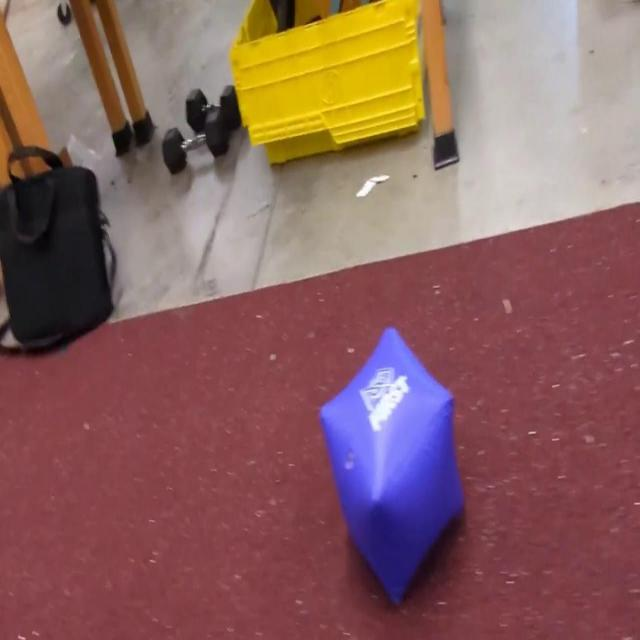frc_cube: (316, 328, 464, 604)
